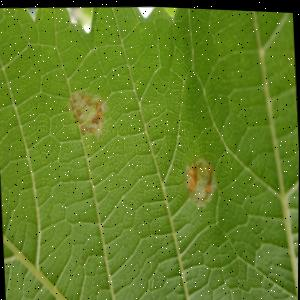Folha: (0, 0, 300, 300)
Fungo: (66, 87, 110, 140), (182, 153, 218, 208)
